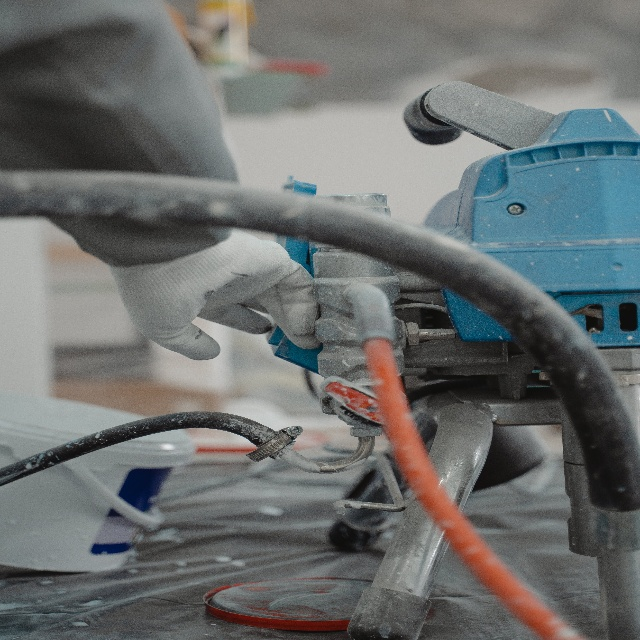Guantes: (111, 230, 320, 361)
